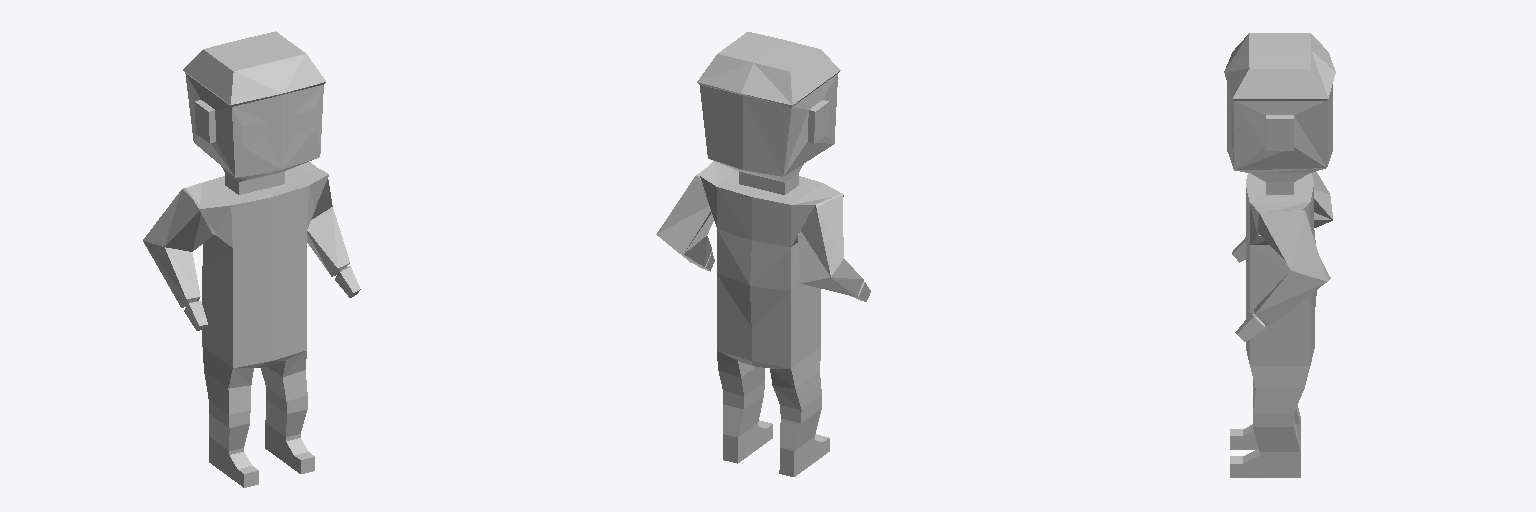
File: clutchnorris.obj
3 views of the same model, side by side, from view 1: azimuth 30°, elevation 25°; view 2: azimuth 150°, elevation 25°; view 3: azimuth 270°, elevation 25° (orthographic).
Parts seen in each view (by area): view 1: Cube; view 2: Cube; view 3: Cube.
Boxes of the visible parts, <box> form: Cube: <box>143,31,360,487</box>; Cube: <box>656,32,870,476</box>; Cube: <box>1224,33,1335,477</box>.
Bounding box in the file's own units: 0.6455 × 1.43 × 0.354.